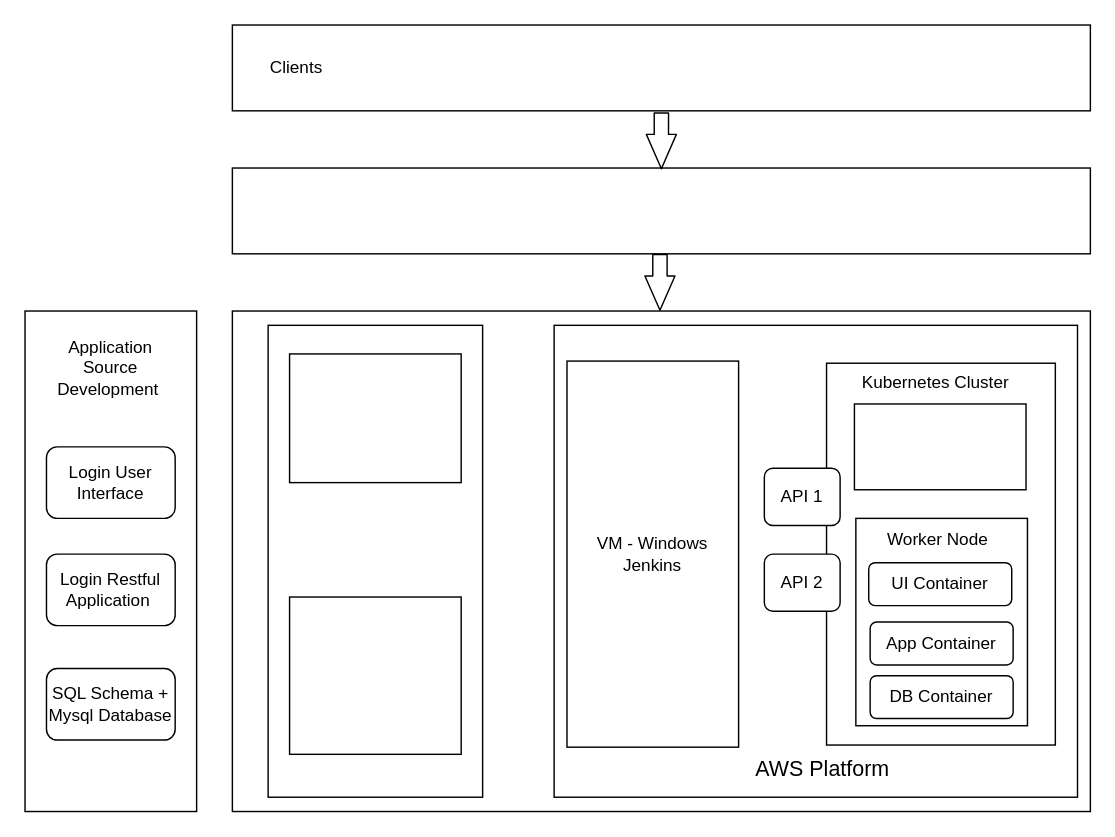
Some shapes in this 1115 by 837 pixel diagram are drawn without their labels. Each missing label, with the box of its shape:
API Gateway: (231, 167, 1090, 254)
Docker hub: (288, 596, 461, 754)
Git: (288, 352, 461, 483)
Login Application: (231, 24, 1090, 111)
Master Node: (853, 403, 1026, 490)
